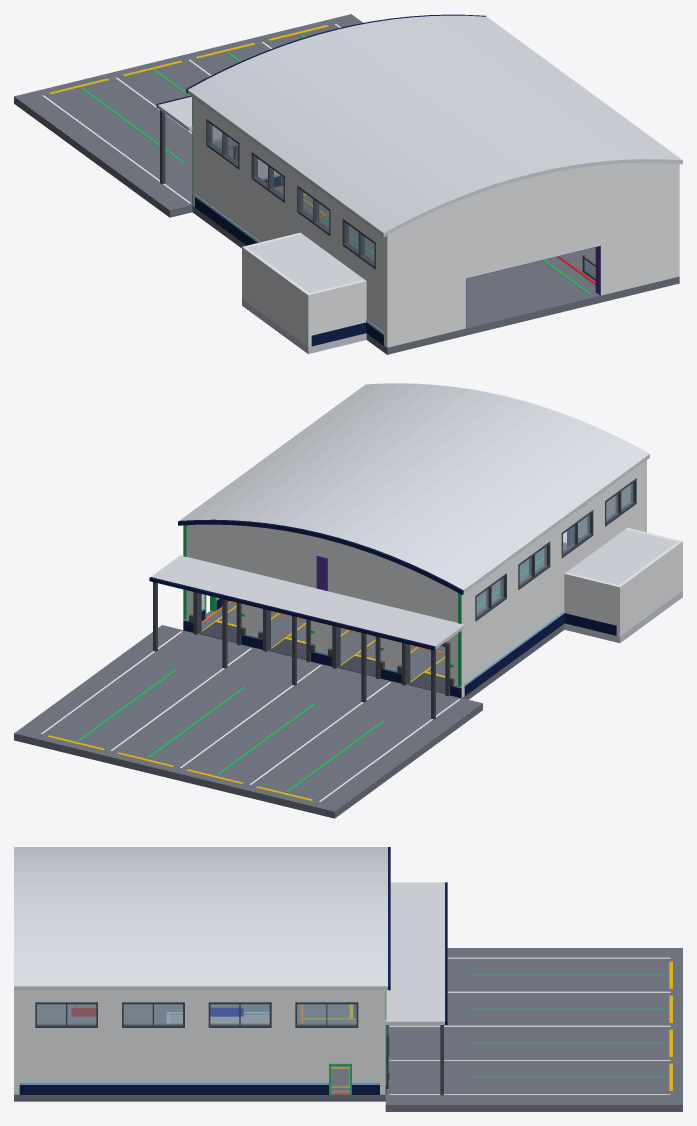
Rendered from LLASO_Warehouse_MIRRORED.obj.
3 renders of one model, top to bottom at view 1: azimuth 30°, elevation 25°; view 2: azimuth 150°, elevation 25°; view 3: azimuth 270°, elevation 25°, orthographic. The views are drawn at different scales.
Parts seen in each view (by area): view 1: LLASO_WH_Roof, LLASO_WH_HallWall, LLASO_WH_Apron, LLASO_WH_SideWall_CTB, LLASO_WH_CTBLink, LLASO_WH_Floor, LLASO_WH_Pediment, LLASO_WH_Windows, LLASO_WH_ApronPaint, LLASO_WH_Canopy, LLASO_WH_DockWall; view 2: LLASO_WH_Roof, LLASO_WH_Apron, LLASO_WH_DockWall, LLASO_WH_SideWall_CTB, LLASO_WH_Canopy, LLASO_WH_CTBLink, LLASO_WH_Floor, LLASO_WH_ApronPaint, LLASO_WH_Windows, LLASO_WH_Pediment, LLASO_WH_DockFrames, LLASO_WH_Levelers (+2 smaller); view 3: LLASO_WH_Roof, LLASO_WH_Apron, LLASO_WH_SideWall_Fragile, LLASO_WH_Canopy, LLASO_WH_Windows, LLASO_WH_Floor, LLASO_WH_ApronPaint, LLASO_WH_ColdStorage, LLASO_WH_DockWall, LLASO_WH_HallWall.
Boxes of the visible parts, bbox=[...] form: LLASO_WH_Roof: bbox=[186, 14, 682, 237]; LLASO_WH_HallWall: bbox=[384, 163, 679, 347]; LLASO_WH_Apron: bbox=[14, 14, 362, 217]; LLASO_WH_SideWall_CTB: bbox=[195, 99, 384, 345]; LLASO_WH_CTBLink: bbox=[242, 232, 366, 353]; LLASO_WH_Floor: bbox=[192, 187, 679, 354]; LLASO_WH_Pediment: bbox=[392, 162, 672, 232]; LLASO_WH_Windows: bbox=[206, 119, 375, 269]; LLASO_WH_ApronPaint: bbox=[42, 24, 340, 203]; LLASO_WH_Canopy: bbox=[156, 96, 238, 184]; LLASO_WH_DockWall: bbox=[192, 97, 280, 206]; LLASO_WH_Roof: bbox=[178, 383, 649, 594]; LLASO_WH_Apron: bbox=[14, 625, 482, 818]; LLASO_WH_DockWall: bbox=[183, 525, 463, 697]; LLASO_WH_SideWall_CTB: bbox=[464, 462, 644, 696]; LLASO_WH_Canopy: bbox=[149, 555, 464, 719]; LLASO_WH_CTBLink: bbox=[564, 527, 682, 643]; LLASO_WH_Floor: bbox=[199, 542, 566, 699]; LLASO_WH_ApronPaint: bbox=[41, 631, 460, 801]; LLASO_WH_Windows: bbox=[475, 478, 636, 621]; LLASO_WH_Pediment: bbox=[196, 524, 445, 586]; LLASO_WH_DockFrames: bbox=[193, 592, 450, 696]; LLASO_WH_Levelers: bbox=[199, 620, 445, 693]; LLASO_WH_Roof: bbox=[14, 847, 390, 990]; LLASO_WH_Apron: bbox=[385, 948, 682, 1111]; LLASO_WH_SideWall_Fragile: bbox=[19, 990, 380, 1094]; LLASO_WH_Canopy: bbox=[385, 882, 447, 1095]; LLASO_WH_Windows: bbox=[35, 1002, 358, 1027]; LLASO_WH_Floor: bbox=[14, 1004, 385, 1101]; LLASO_WH_ApronPaint: bbox=[389, 957, 672, 1094]; LLASO_WH_ColdStorage: bbox=[166, 1012, 269, 1023]; LLASO_WH_DockWall: bbox=[380, 990, 386, 1094]; LLASO_WH_HallWall: bbox=[14, 990, 18, 1094].
Size of the model in its own units: 33.2 by 12.4 by 54.
